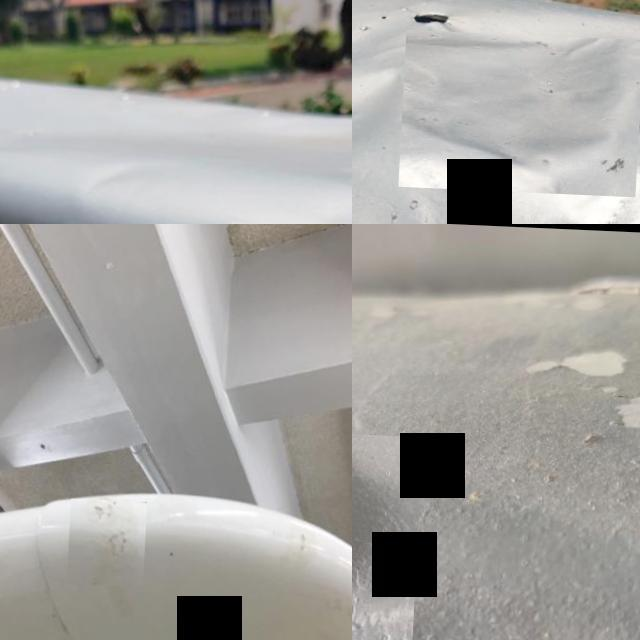Crack: (72, 496, 150, 584), (264, 516, 324, 578)
Dent: (402, 27, 640, 193), (352, 427, 425, 640), (352, 33, 426, 203)
